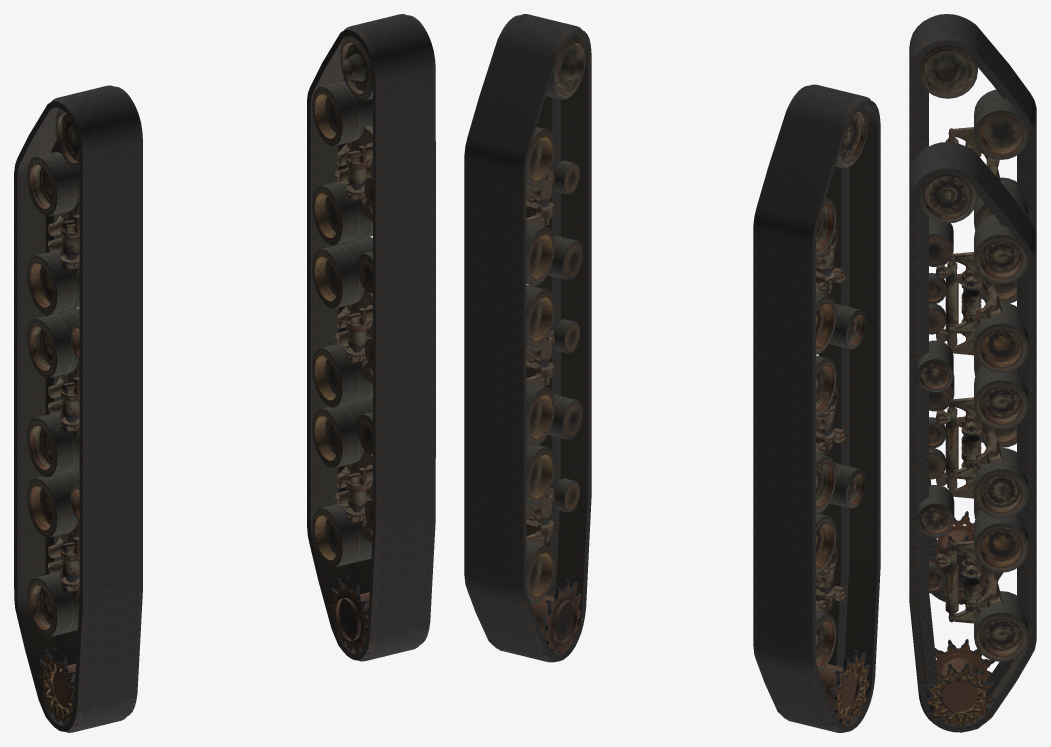
Rendered from Chassis_01.glb.
The picture shows the model from 3 angles, left to right: view 1: azimuth 30°, elevation 25°; view 2: azimuth 150°, elevation 25°; view 3: azimuth 270°, elevation 25°; orthographic projection. The views are drawn at different scales.
Parts seen in each view (by area): view 1: set_0_group_0, set_1_group_0, set_3_group_0, set_2_group_0; view 2: set_0_group_0, set_1_group_0, set_3_group_0, set_2_group_0; view 3: set_3_group_0, set_1_group_0, set_2_group_0, set_0_group_0.
Part boxes in pixels (x1=…): set_0_group_0: x1=14, y1=85, x2=142, y2=732; set_1_group_0: x1=307, y1=14, x2=435, y2=661; set_3_group_0: x1=312, y1=36, x2=428, y2=660; set_2_group_0: x1=26, y1=108, x2=135, y2=732; set_0_group_0: x1=753, y1=84, x2=880, y2=732; set_1_group_0: x1=464, y1=14, x2=591, y2=662; set_3_group_0: x1=489, y1=35, x2=586, y2=662; set_2_group_0: x1=777, y1=107, x2=870, y2=732; set_3_group_0: x1=917, y1=173, x2=1028, y2=732; set_1_group_0: x1=909, y1=142, x2=1036, y2=732; set_2_group_0: x1=917, y1=45, x2=1028, y2=604; set_0_group_0: x1=909, y1=14, x2=1036, y2=604.
Size of the model in its own units: 3.39 by 5.82 by 1.19.
Materials: 4 (4 with a texture image).
